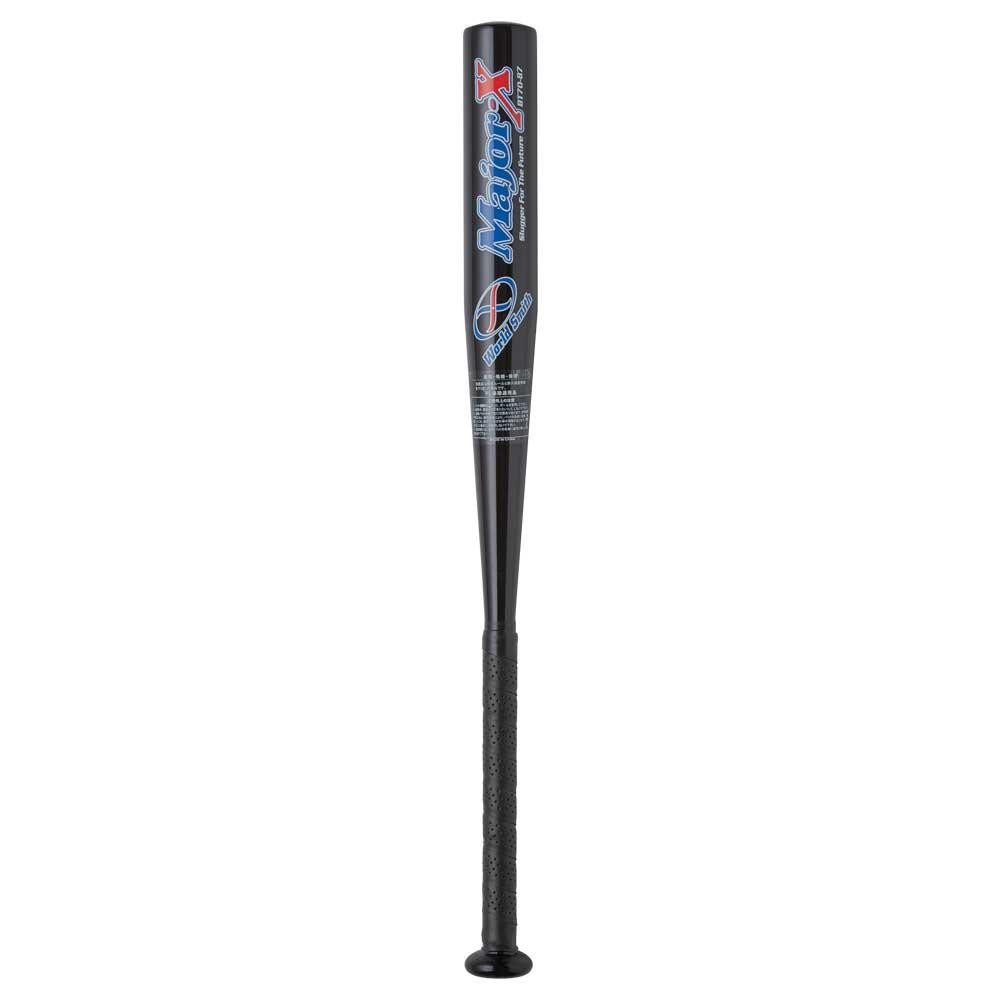bat: (455, 10, 542, 988)
